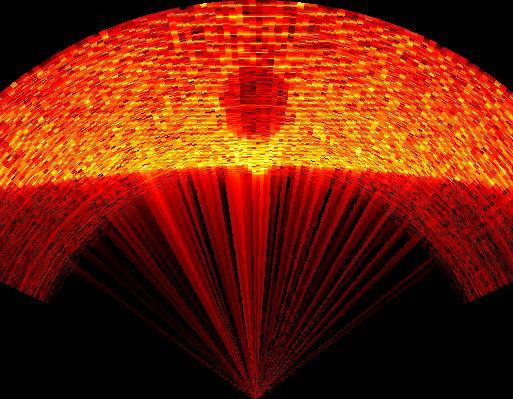box_crate: (219, 61, 297, 177)
